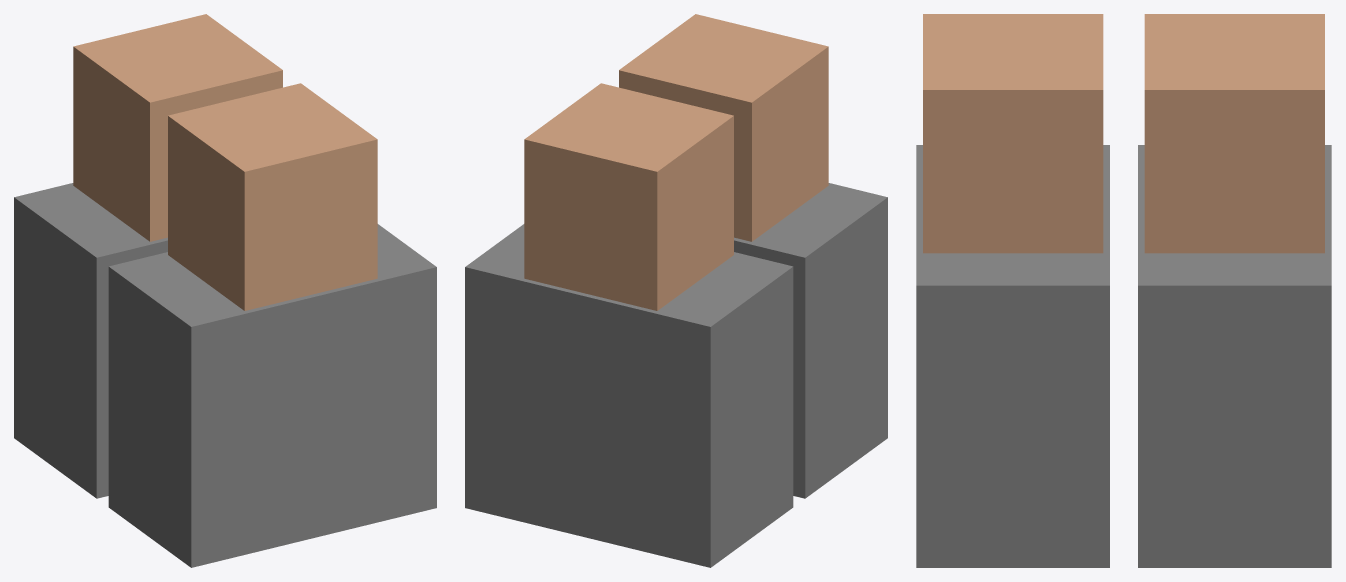
Rendered from carousel_rider.obj.
3 renders of one model, left to right at view 1: azimuth 30°, elevation 25°; view 2: azimuth 150°, elevation 25°; view 3: azimuth 270°, elevation 25°, orthographic. The views are drawn at different scales.
Bounding box in the file's own units: 0.48 × 0.71 × 0.6.
